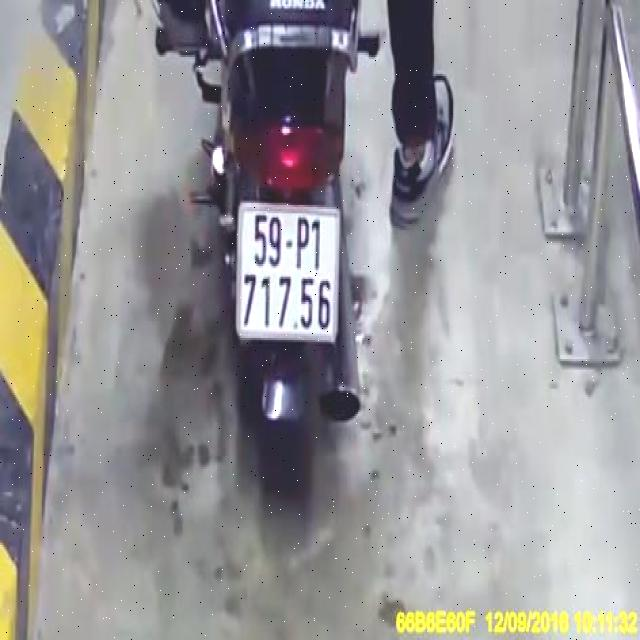1: (258, 270, 274, 333), (310, 214, 324, 272)
5: (252, 209, 268, 268), (298, 273, 314, 332)
6: (316, 277, 332, 332)
7: (241, 268, 259, 326), (278, 274, 292, 330)
9: (268, 211, 280, 270)
P: (294, 213, 310, 270)
